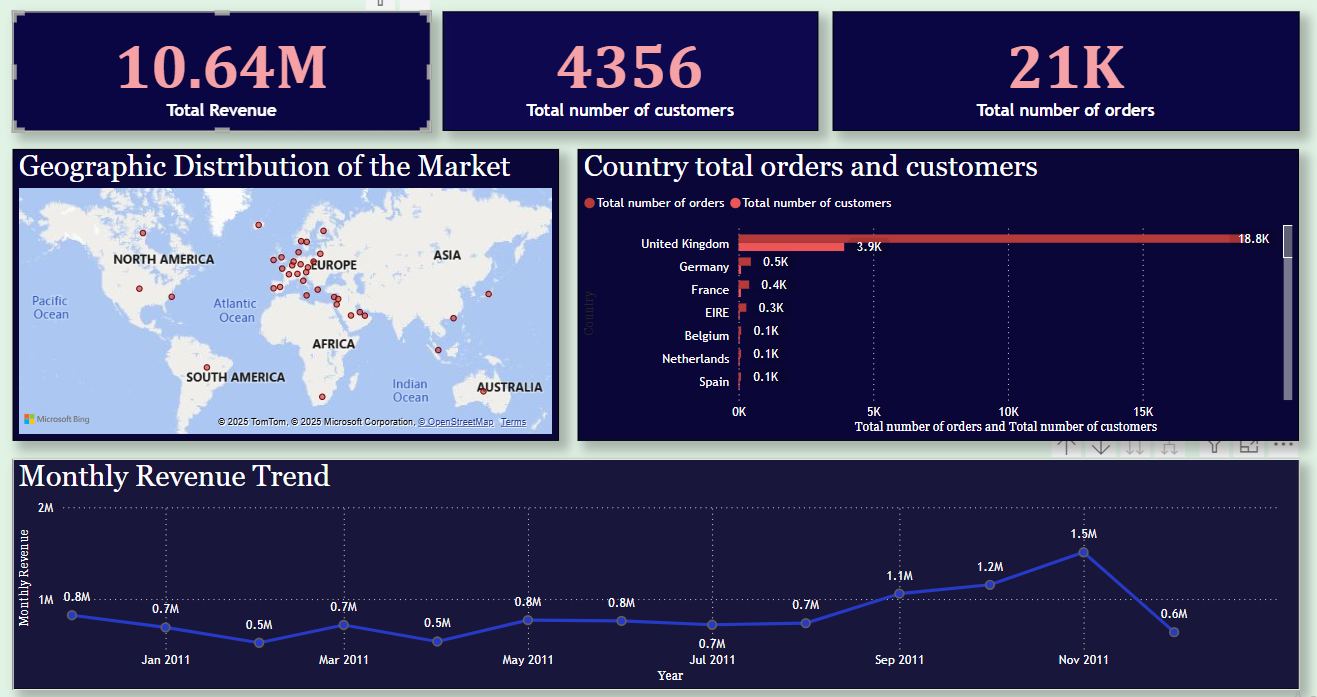

This screenshot's page, from the dashboard's own definition file:
{"tool":"powerbi","page":{"name":"Executive Dashboard","canvas":[1280,720],"ordinal":0},"visuals":[{"type":"card","fields":{"Values":["Sum(_Basic_sales_analysis_Total_revenue_by_country_SELECT_Country_RO_202502171647.TotalRevenue)"]},"box":[17.8,41.2,403.4,115.3],"z":0},{"type":"card","fields":{"Values":["Sum(_Basic_sales_analysis_Total_revenue_by_country_SELECT_Country_RO_202502171647.NumberOfCustomers)"]},"box":[433.6,41.2,362.3,115.3],"z":1000},{"type":"card","fields":{"Values":["Sum(_Basic_sales_analysis_Total_revenue_by_country_SELECT_Country_RO_202502171647.NumberOfOrders)"]},"box":[809.6,41.2,450.1,115.3],"z":2000},{"type":"lineChart","title":"Monthly Revenue Trend ","fields":{"Y":["Sum(_Monthly_revenue_trend_SELECT_strftime_Y_m_InvoiceDate_as_Month__202502171655.MonthlyRevenue)"],"Category":["_Monthly_revenue_trend_SELECT_strftime_Y_m_InvoiceDate_as_Month__202502171655.Month.Variation.Date Hierarchy.Year","_Monthly_revenue_trend_SELECT_strftime_Y_m_InvoiceDate_as_Month__202502171655.Month.Variation.Date Hierarchy.Quarter","_Monthly_revenue_trend_SELECT_strftime_Y_m_InvoiceDate_as_Month__202502171655.Month.Variation.Date Hierarchy.Month","_Monthly_revenue_trend_SELECT_strftime_Y_m_InvoiceDate_as_Month__202502171655.Month.Variation.Date Hierarchy.Day"]},"box":[17.8,473.4,1241.9,222.3],"z":3000},{"type":"clusteredBarChart","title":"Country total orders and customers","fields":{"Category":["_Basic_sales_analysis_Total_revenue_by_country_SELECT_Country_RO_202502171647.Country"],"Y":["Sum(_Basic_sales_analysis_Total_revenue_by_country_SELECT_Country_RO_202502171647.NumberOfOrders)","Sum(_Basic_sales_analysis_Total_revenue_by_country_SELECT_Country_RO_202502171647.NumberOfCustomers)"]},"box":[564,174.3,695.7,281.3],"z":4000},{"type":"map","fields":{"Category":["_Basic_sales_analysis_Total_revenue_by_country_SELECT_Country_RO_202502171647.Country"]},"box":[17.8,174.3,526.9,281.3],"z":5000}]}

Visuals, with their boxes in screenshot pixels (x1, y1, x2, y2):
card - Sum(_Basic_sales_analysis_Total_revenue_by_country_SELECT_Country_RO_202502171647.TotalRevenue): bbox(15, 11, 428, 130)
card - Sum(_Basic_sales_analysis_Total_revenue_by_country_SELECT_Country_RO_202502171647.NumberOfCustomers): bbox(441, 11, 812, 130)
card - Sum(_Basic_sales_analysis_Total_revenue_by_country_SELECT_Country_RO_202502171647.NumberOfOrders): bbox(826, 11, 1288, 130)
"Monthly Revenue Trend " lineChart: bbox(15, 454, 1288, 682)
"Country total orders and customers" clusteredBarChart: bbox(575, 148, 1288, 436)
map - _Basic_sales_analysis_Total_revenue_by_country_SELECT_Country_RO_202502171647.Country: bbox(15, 148, 555, 436)
